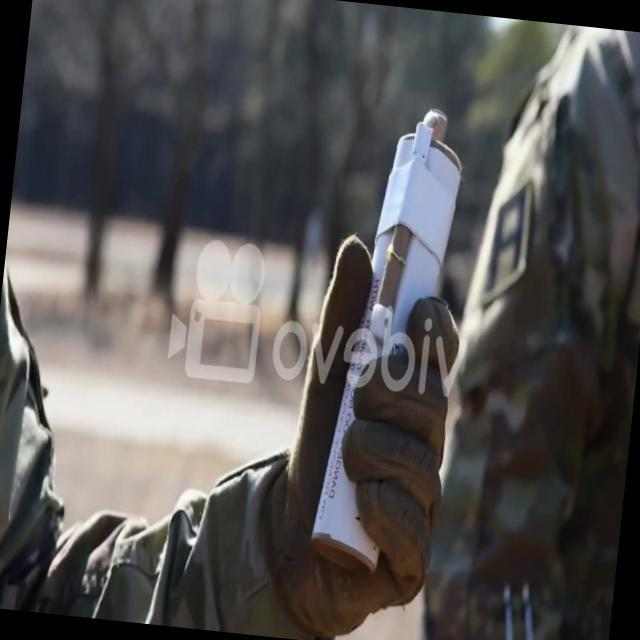grenade: (307, 102, 471, 572)
